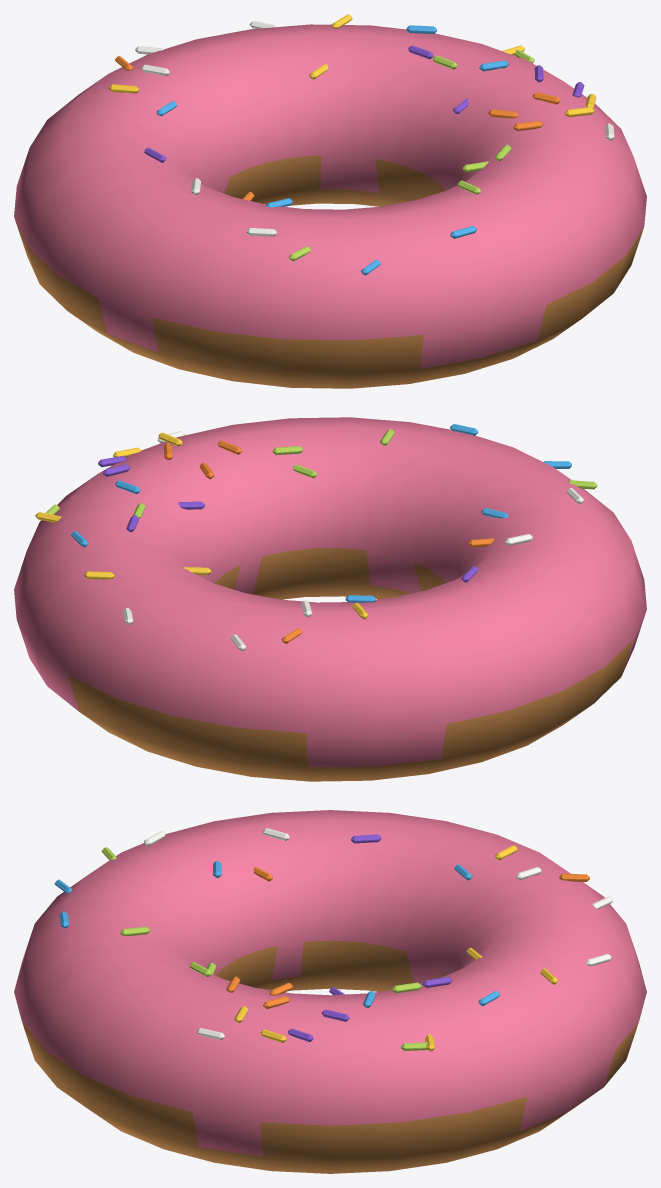
File: boia_rosquinha.glb
3 views of the same model, one above another, from view 1: azimuth 30°, elevation 25°; view 2: azimuth 150°, elevation 25°; view 3: azimuth 270°, elevation 25° (orthographic).
Visible parts, largest first — view 1: boia_rosquinha; view 2: boia_rosquinha; view 3: boia_rosquinha.
Part boxes in pixels (x1=…): boia_rosquinha: x1=14, y1=14, x2=646, y2=388; boia_rosquinha: x1=14, y1=417, x2=646, y2=781; boia_rosquinha: x1=14, y1=810, x2=646, y2=1173.
Size of the model in its own units: 1.04 by 0.298 by 1.04.
Materials: 1 (1 with a texture image).
